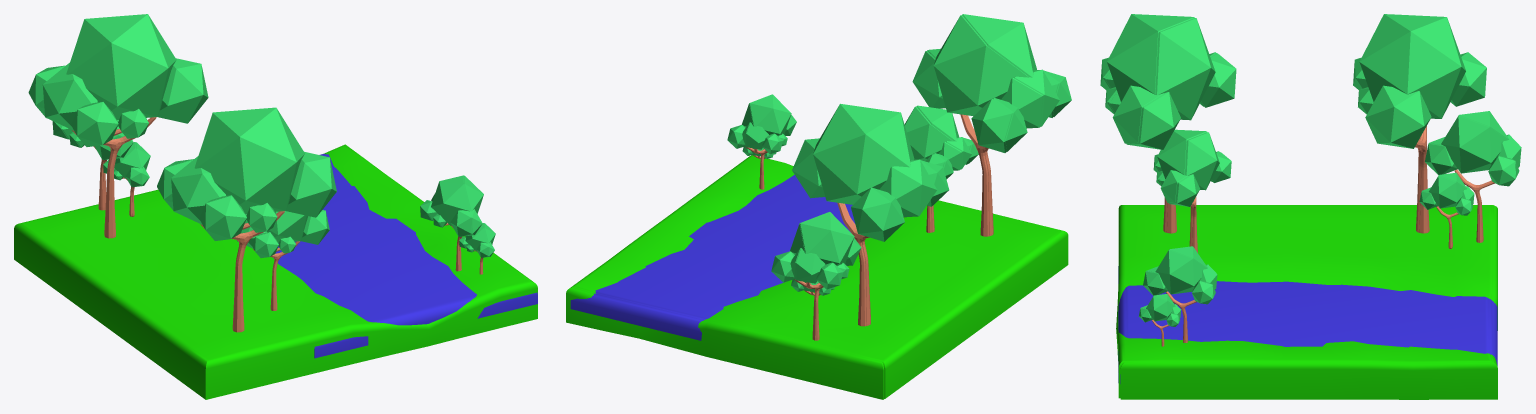
Rendered from landscape.gltf.
3 views of the same model, side by side, from view 1: azimuth 30°, elevation 25°; view 2: azimuth 150°, elevation 25°; view 3: azimuth 270°, elevation 25° (orthographic). The views are drawn at different scales.
Visible parts, largest first — view 1: land, water, Icosphere, Icosphere.001, Icosphere.002, Icosphere.005, treeTrunk.001, treeTrunk, Icosphere.010, Icosphere.007, Icosphere.006, Icosphere.009; view 2: land, water, Icosphere, land.001, Icosphere.003, Icosphere.001, Icosphere.009, water.001, Icosphere.005, Icosphere.004, Icosphere.002, treeTrunk.004 (+4 smaller); view 3: land, water, land.001, Icosphere, Icosphere.003, Icosphere.001, Icosphere.011, Icosphere.004, Icosphere.007, Icosphere.002, Icosphere.012, Icosphere.008 (+5 smaller).
Boxes of the visible parts, left/top/right/bottom form: land: left=14, top=145, right=537, bottom=399; water: left=273, top=154, right=537, bottom=358; Icosphere: left=28, top=14, right=208, bottom=146; Icosphere.001: left=157, top=108, right=336, bottom=240; Icosphere.002: left=236, top=210, right=329, bottom=258; Icosphere.005: left=420, top=175, right=472, bottom=236; treeTrunk.001: left=200, top=211, right=284, bottom=332; treeTrunk: left=72, top=117, right=156, bottom=238; Icosphere.010: left=103, top=142, right=141, bottom=186; Icosphere.007: left=428, top=175, right=483, bottom=236; Icosphere.006: left=459, top=223, right=488, bottom=257; Icosphere.009: left=52, top=121, right=119, bottom=159; land: left=572, top=155, right=1068, bottom=398; water: left=595, top=174, right=855, bottom=319; Icosphere: left=792, top=103, right=949, bottom=241; land.001: left=566, top=156, right=884, bottom=399; Icosphere.003: left=912, top=15, right=1058, bottom=152; Icosphere.001: left=927, top=14, right=1071, bottom=151; Icosphere.009: left=772, top=212, right=861, bottom=289; water.001: left=570, top=293, right=703, bottom=340; Icosphere.005: left=728, top=94, right=796, bottom=153; Icosphere.004: left=904, top=106, right=970, bottom=170; Icosphere.002: left=916, top=105, right=978, bottom=179; treeTrunk.004: left=837, top=202, right=869, bottom=326; land: left=1116, top=205, right=1494, bottom=398; water: left=1118, top=266, right=1489, bottom=382; land.001: left=1120, top=206, right=1497, bottom=399; Icosphere: left=1353, top=14, right=1486, bottom=148; Icosphere.003: left=1105, top=18, right=1236, bottom=149; Icosphere.001: left=1100, top=14, right=1216, bottom=143; Icosphere.011: left=1425, top=115, right=1520, bottom=186; Icosphere.004: left=1157, top=132, right=1231, bottom=206; Icosphere.007: left=1143, top=250, right=1216, bottom=304; Icosphere.002: left=1153, top=129, right=1220, bottom=202; Icosphere.012: left=1419, top=175, right=1473, bottom=215; Icosphere.008: left=1138, top=296, right=1180, bottom=326.
Size of the model in its own units: 8.16 by 5.92 by 8.93.
